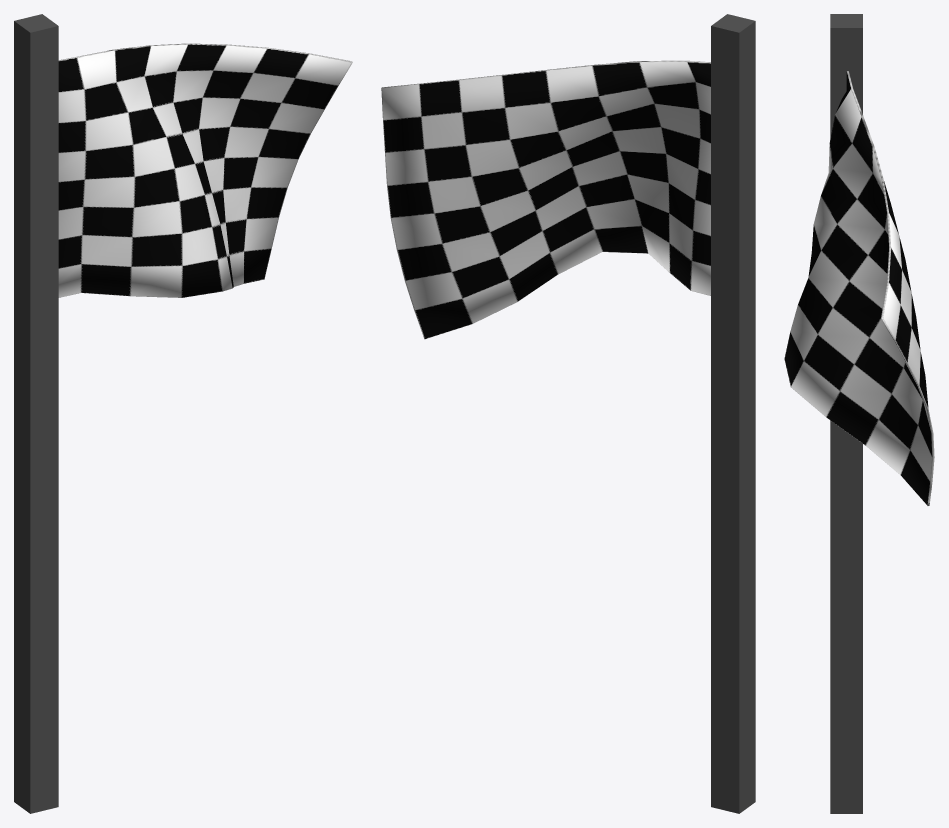
The model's file is flag.fbx.
3 renders of one model, left to right at view 1: azimuth 30°, elevation 25°; view 2: azimuth 150°, elevation 25°; view 3: azimuth 270°, elevation 25°, orthographic.
Visible parts, largest first — view 1: flaga2, flaga; view 2: flaga2, flaga; view 3: flaga2, flaga.
Boxes of the visible parts, x1=… form: flaga2: x1=58, y1=43, x2=352, y2=297; flaga: x1=14, y1=14, x2=58, y2=813; flaga2: x1=381, y1=60, x2=710, y2=339; flaga: x1=711, y1=14, x2=755, y2=813; flaga2: x1=784, y1=71, x2=934, y2=505; flaga: x1=830, y1=14, x2=862, y2=813.
Bounding box in the file's own units: 200 × 428 × 74.07.
